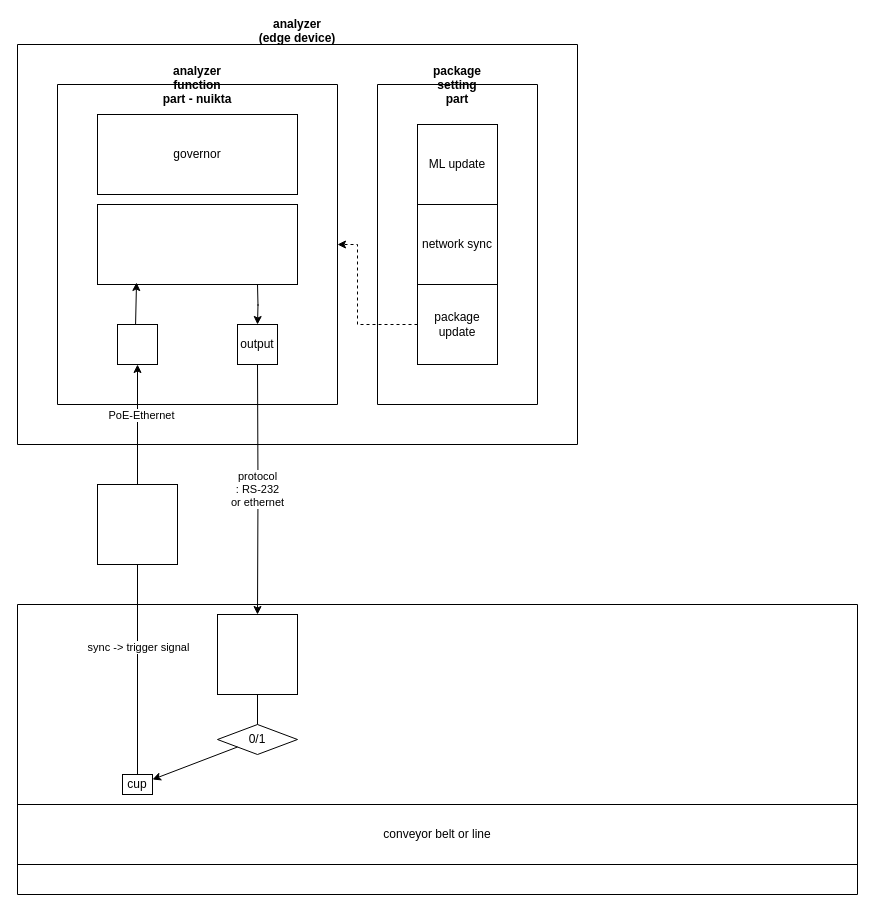
The diagram is 875 pixels wide and 912 high, and some of its shapes have lost their labels. The box of each missing label's shape, as (x1, y1, x2, y2) in pixels:
AI: (96, 204, 298, 284)
capture: (116, 324, 158, 364)
line controller: (16, 604, 858, 894)
sensor (camera): (96, 484, 178, 564)
signal receiver: (216, 614, 298, 694)
